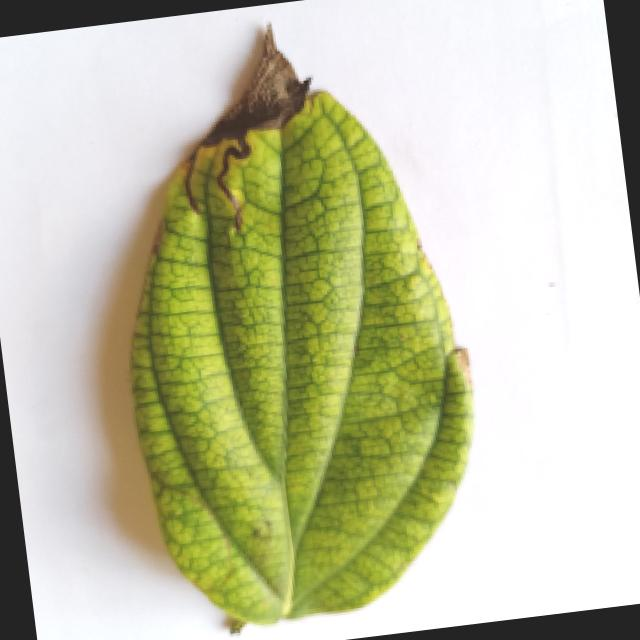footrot: (83, 14, 498, 640)
